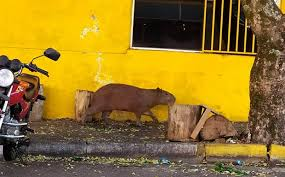capivara: (82, 84, 176, 128)
